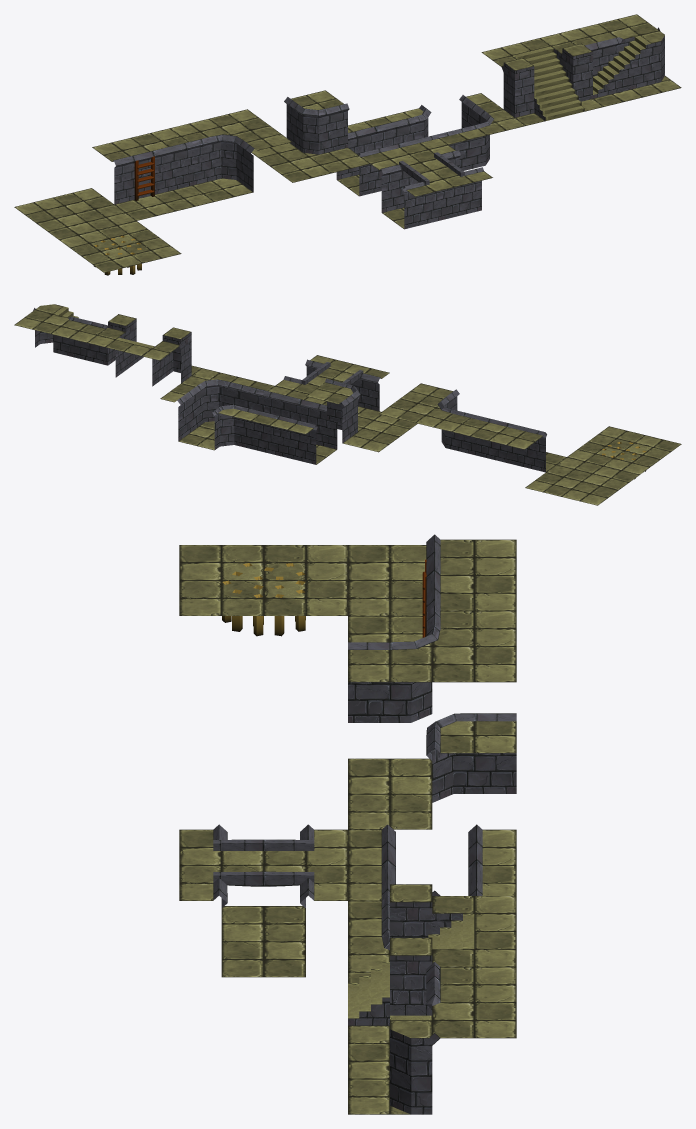
File: Tiles.FBX
3 renders of one model, top to bottom at view 1: azimuth 30°, elevation 25°; view 2: azimuth 150°, elevation 25°; view 3: azimuth 270°, elevation 25°, orthographic. The views are drawn at different scales.
Visible parts, largest first — view 1: Tile_Stairs_Wide, Tile_Trench_Bridge, Tile_Stairs_Thin, Tile_Wall_Straight, Tile_Wall_Concave, Tile_Wall_Convex, Tile_Trench_Straight, Tile_Trench_Corner, Tile_Flat_Trap, Tile_Flat, Ladder; view 2: Tile_Trench_Corner, Tile_Trench_Straight, Tile_Stairs_Wide, Tile_Wall_Convex, Tile_Wall_Straight, Tile_Wall_Concave, Tile_Stairs_Thin, Tile_Flat_Trap, Tile_Flat, Tile_Trench_Bridge; view 3: Tile_Trench_Bridge, Tile_Stairs_Wide, Tile_Stairs_Thin, Tile_Wall_Concave, Tile_Wall_Convex, Tile_Flat_Trap, Tile_Wall_Straight, Tile_Trench_Straight, Tile_Flat, Tile_Trench_Corner.
Part boxes in pixels (x1,y1,x2,y2): Tile_Stairs_Wide: (481,33,603,125); Tile_Trench_Bridge: (371,145,492,229); Tile_Stairs_Thin: (559,14,681,106); Tile_Wall_Straight: (92,128,214,220); Tile_Wall_Concave: (170,109,292,201); Tile_Wall_Convex: (251,90,369,182); Tile_Trench_Straight: (336,112,447,196); Tile_Trench_Corner: (404,93,525,170); Tile_Flat_Trap: (59,221,181,275); Tile_Flat: (14,188,136,239); Ladder: (134,156,154,200); Tile_Trench_Corner: (160,368,274,450); Tile_Trench_Straight: (233,386,337,464); Tile_Stairs_Wide: (87,314,201,386); Tile_Wall_Convex: (306,378,417,452); Tile_Wall_Straight: (452,414,566,472); Tile_Wall_Concave: (379,383,472,454); Tile_Stairs_Thin: (14,304,107,365); Tile_Flat_Trap: (567,426,681,479); Tile_Flat: (525,457,639,505); Tile_Trench_Bridge: (275,355,389,429); Tile_Trench_Bridge: (179,824,347,977); Tile_Stairs_Wide: (348,884,516,1043); Tile_Stairs_Thin: (348,962,516,1114); Tile_Wall_Concave: (348,605,516,722); Tile_Wall_Convex: (348,713,516,829); Tile_Flat_Trap: (179,545,347,636); Tile_Wall_Straight: (348,534,516,642); Tile_Trench_Straight: (348,824,516,900); Tile_Flat: (348,545,426,615); Tile_Trench_Corner: (348,895,389,972).
Size of the model in its own units: 32 by 4.3 by 8.
Materials: 4 (3 with a texture image).
